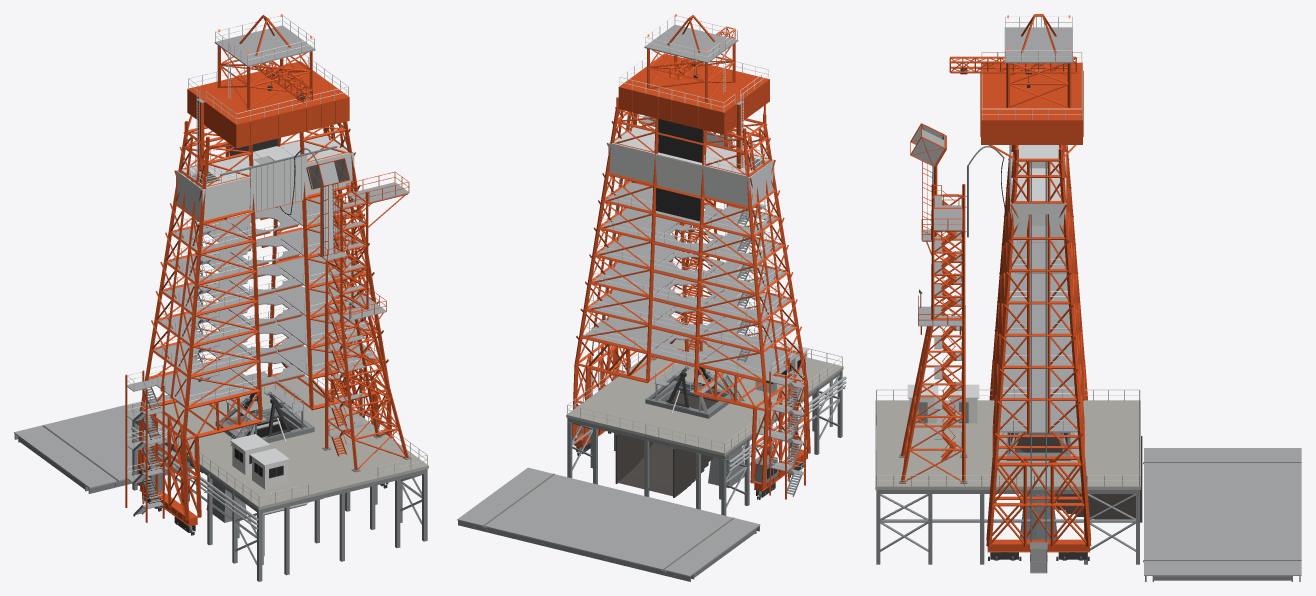
The model's file is pad.glb.
3 renders of one model, left to right at view 1: azimuth 30°, elevation 25°; view 2: azimuth 150°, elevation 25°; view 3: azimuth 270°, elevation 25°, orthographic. The views are drawn at different scales.
Visible parts, largest first — view 1: ServiceStructure_Tower_Orange, ServiceStructure_Tower_Deck, LaunchStand_Concrete, ServiceStructure_Tower_OrangeHead, EgressTower_Orange, TransferTable_Deck, LaunchStand_GreyFrame, ServiceStructure_Tower_WhiteRails, ServiceStructure_Tower_AluminiumWhiteroom, ServiceStructure_Tower_GreyStair, EgressTower_OrangeStair, EgressTower_DeckPlatforms (+15 smaller); view 2: ServiceStructure_Tower_Orange, ServiceStructure_Tower_Deck, TransferTable_Deck, LaunchStand_Concrete, ServiceStructure_Tower_OrangeHead, ServiceStructure_Tower_WhiteRails, LaunchStand_GreyFrame, ServiceStructure_Tower_AluminiumWhiteroom, ServiceStructure_Tower_BlackScreen, FlameDeflector_ScorchedWalls, FlameDeflector_Scorched, ServiceStructure_Tower_GreyStair (+10 smaller); view 3: ServiceStructure_Tower_Orange, TransferTable_Deck, LaunchStand_Concrete, ServiceStructure_Tower_Deck, ServiceStructure_Tower_OrangeHead, EgressTower_Orange, LaunchStand_GreyFrame, ServiceStructure_Tower_AluminiumWhiteroom, FlameDeflector_ScorchedWalls, ServiceStructure_Tower_WhiteRails, EgressTower_OrangeStair, EgressTower_DeckPlatforms (+13 smaller).
Boxes of the visible parts, x1,y1,x2,y2 form: ServiceStructure_Tower_Orange: (125,15,392,522); ServiceStructure_Tower_Deck: (126,25,378,508); LaunchStand_Concrete: (137,375,428,509); ServiceStructure_Tower_OrangeHead: (187,61,349,148); EgressTower_Orange: (317,181,408,470); TransferTable_Deck: (14,372,267,488); LaunchStand_GreyFrame: (132,420,427,581); ServiceStructure_Tower_WhiteRails: (148,15,377,402); ServiceStructure_Tower_AluminiumWhiteroom: (176,135,354,220); ServiceStructure_Tower_GreyStair: (133,168,215,516); EgressTower_OrangeStair: (331,194,354,456); EgressTower_DeckPlatforms: (322,182,409,320); ServiceStructure_Tower_Orange: (572,15,810,499); ServiceStructure_Tower_Deck: (584,24,804,475); TransferTable_Deck: (457,467,760,576); LaunchStand_Concrete: (566,339,843,456); ServiceStructure_Tower_OrangeHead: (618,53,769,134); ServiceStructure_Tower_WhiteRails: (583,15,799,375); LaunchStand_GreyFrame: (567,370,842,515); ServiceStructure_Tower_AluminiumWhiteroom: (608,127,774,206); ServiceStructure_Tower_BlackScreen: (656,119,702,221); FlameDeflector_ScorchedWalls: (615,391,717,497); FlameDeflector_Scorched: (617,392,716,496); ServiceStructure_Tower_GreyStair: (737,163,801,496); ServiceStructure_Tower_Orange: (949,14,1091,546); TransferTable_Deck: (1144,448,1301,575); LaunchStand_Concrete: (875,400,1140,489); ServiceStructure_Tower_Deck: (1000,27,1077,432); ServiceStructure_Tower_OrangeHead: (981,62,1082,144); EgressTower_Orange: (900,184,965,482); LaunchStand_GreyFrame: (876,490,1139,564); ServiceStructure_Tower_AluminiumWhiteroom: (1011,145,1066,236); FlameDeflector_ScorchedWalls: (1015,436,1142,522); ServiceStructure_Tower_WhiteRails: (981,16,1082,430); EgressTower_OrangeStair: (941,190,956,460); EgressTower_DeckPlatforms: (918,196,962,326).
Size of the model in its own units: 26.82 by 50.13 by 38.15.
